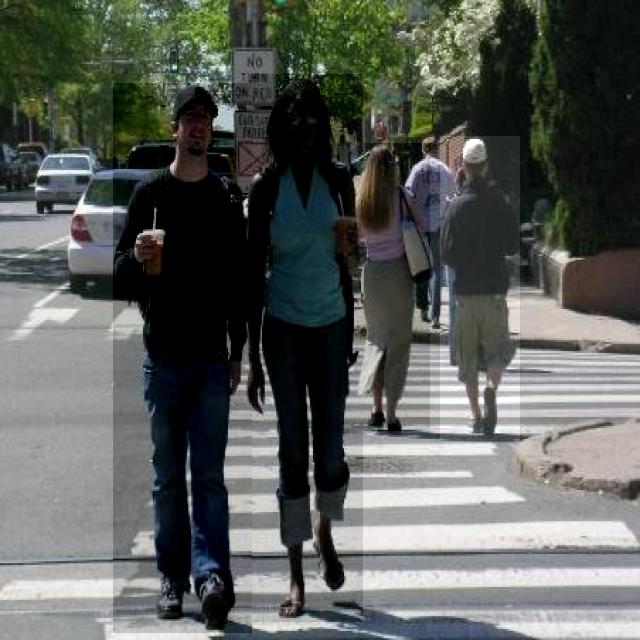with scooter: (113, 84, 252, 634), (249, 74, 363, 622), (440, 136, 520, 440), (352, 143, 430, 431)
